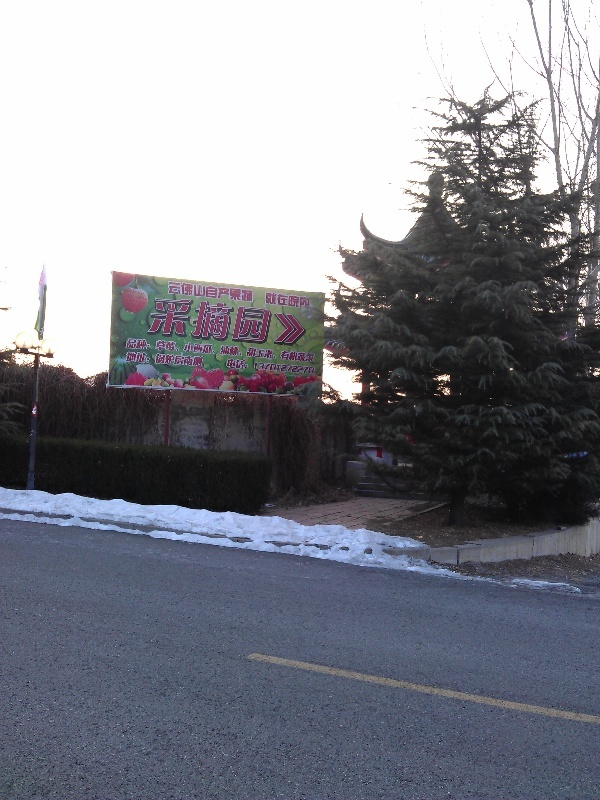text: (161, 295, 176, 345), (177, 295, 192, 345), (193, 295, 208, 345), (209, 295, 224, 345), (225, 295, 240, 345), (241, 295, 256, 345), (257, 295, 272, 345), (152, 295, 160, 345), (129, 337, 144, 363), (145, 337, 160, 363), (161, 337, 176, 363), (177, 337, 192, 363), (193, 337, 208, 363), (209, 337, 224, 363), (225, 337, 240, 363), (241, 337, 256, 363), (257, 337, 272, 363), (273, 337, 288, 363), (289, 337, 304, 363), (177, 281, 192, 303), (193, 281, 208, 303), (209, 281, 224, 303), (225, 281, 240, 303), (241, 281, 254, 303), (305, 337, 316, 363), (273, 292, 288, 310), (289, 292, 304, 310), (241, 358, 256, 376), (257, 358, 272, 376), (273, 358, 288, 376), (289, 358, 304, 376), (129, 351, 144, 368), (145, 351, 160, 368), (161, 351, 176, 368), (177, 351, 192, 368), (228, 358, 240, 376), (305, 358, 316, 376), (193, 351, 204, 368), (169, 281, 176, 303), (265, 292, 272, 310), (305, 292, 312, 310), (126, 337, 128, 363), (273, 295, 274, 345), (126, 351, 128, 368)
